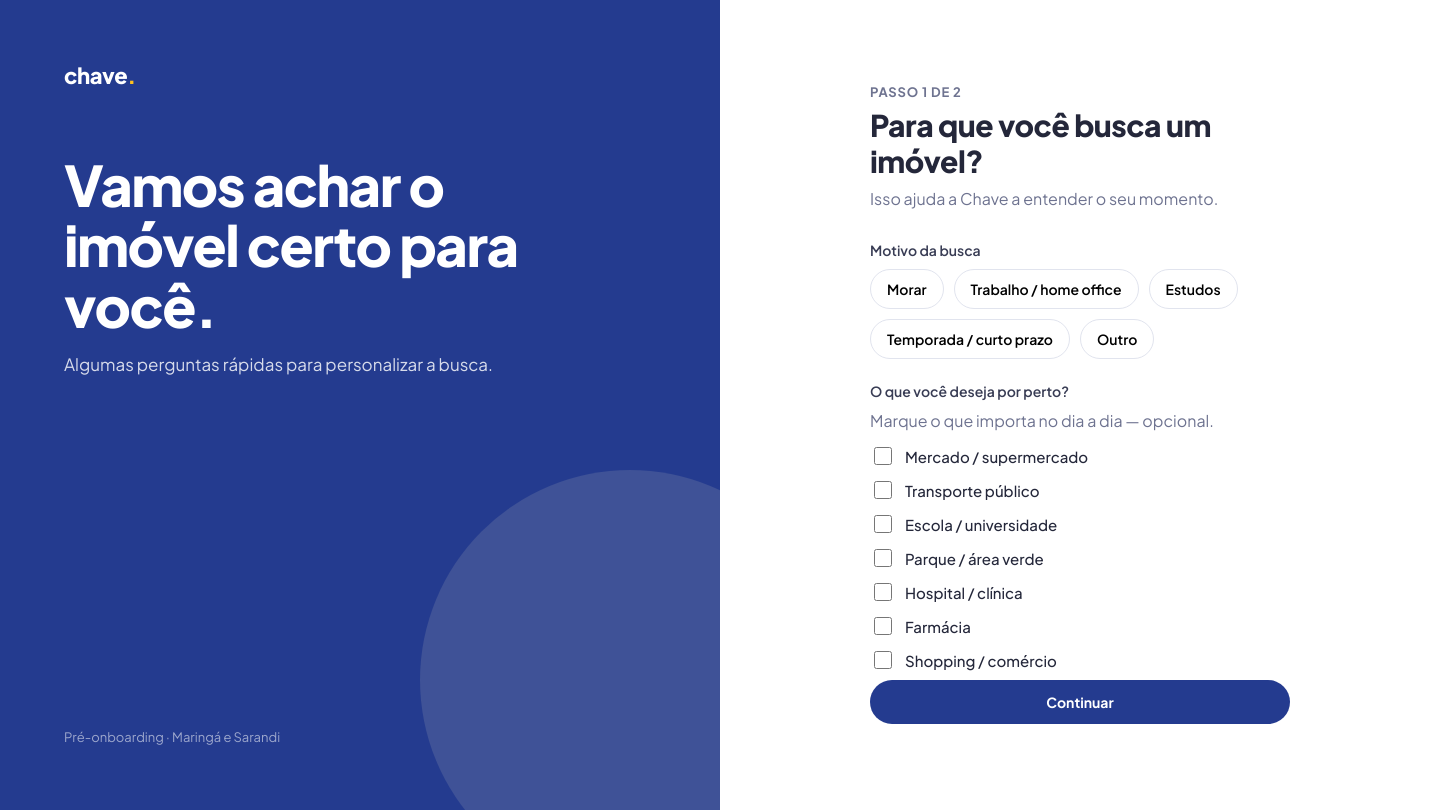
it: OnboardingRentPage › allows going back to step 1
Expected: the heading "Para que você busca um imóvel?" is shown, [870, 106, 1211, 180]
Click the radio button labelled "Morar" at {"x": 907, "y": 288}, box [870, 268, 944, 308]
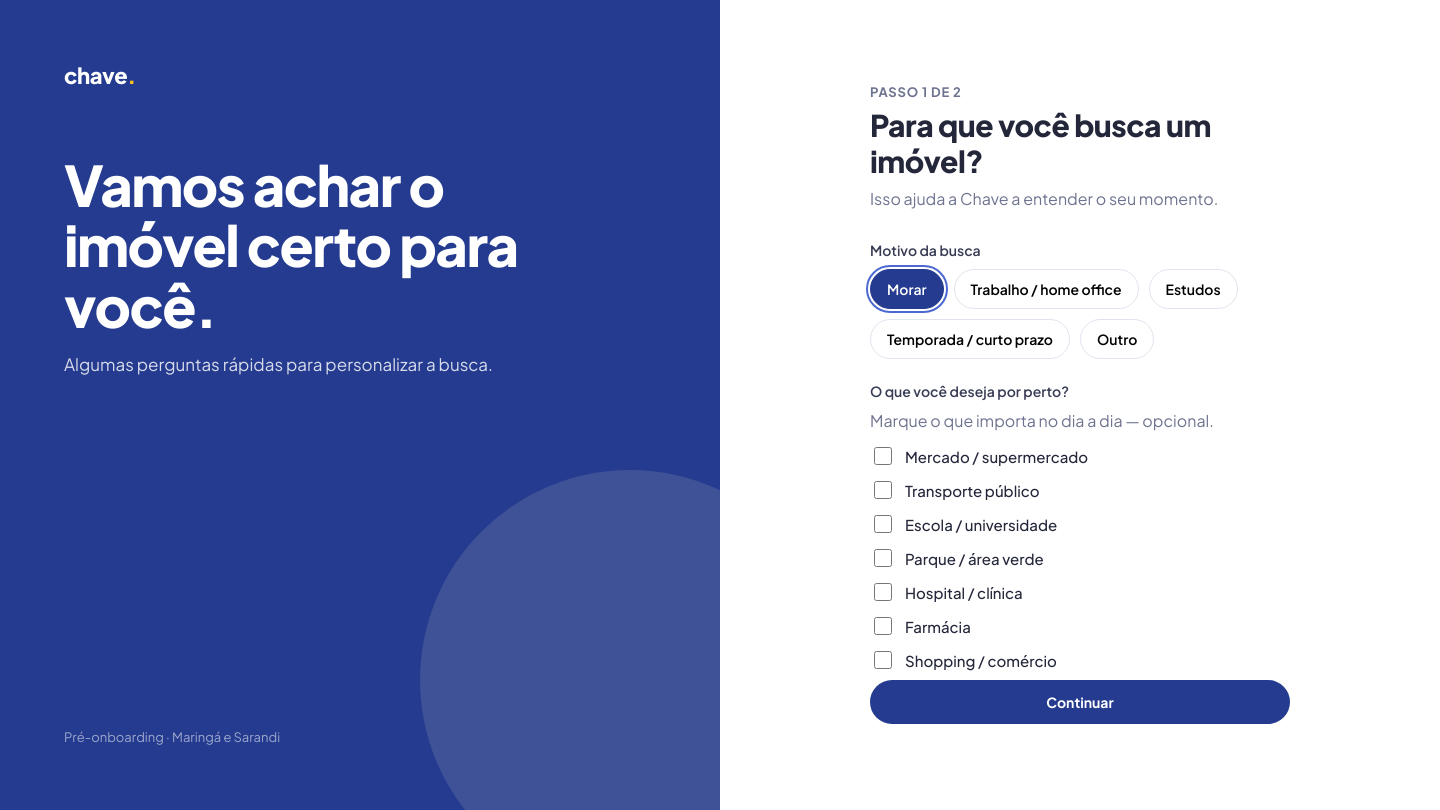
Click the button "Continuar" at {"x": 1080, "y": 702}, box [870, 680, 1290, 724]
(page scrolled)
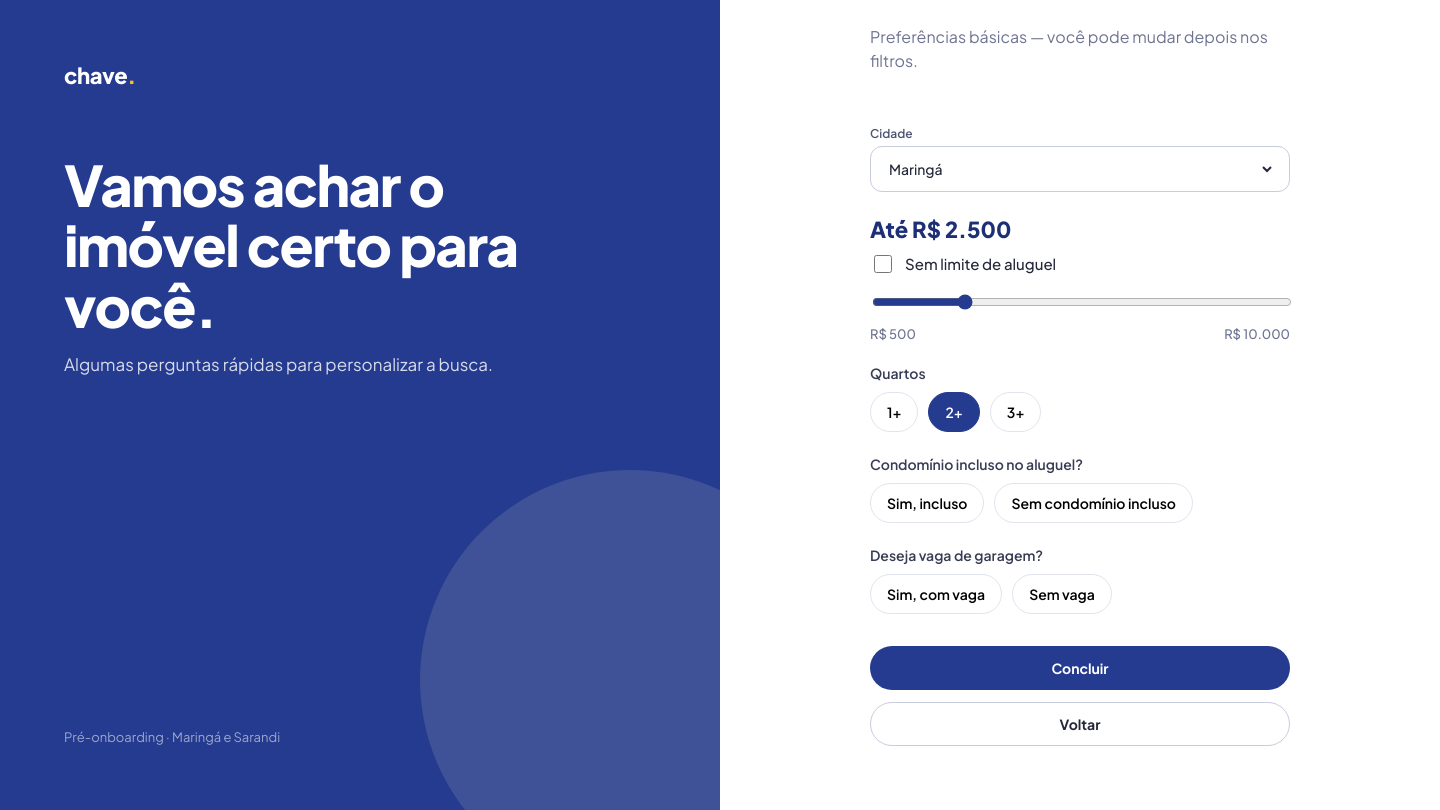
Click the button "Voltar" at {"x": 1080, "y": 724}, box [870, 702, 1290, 746]
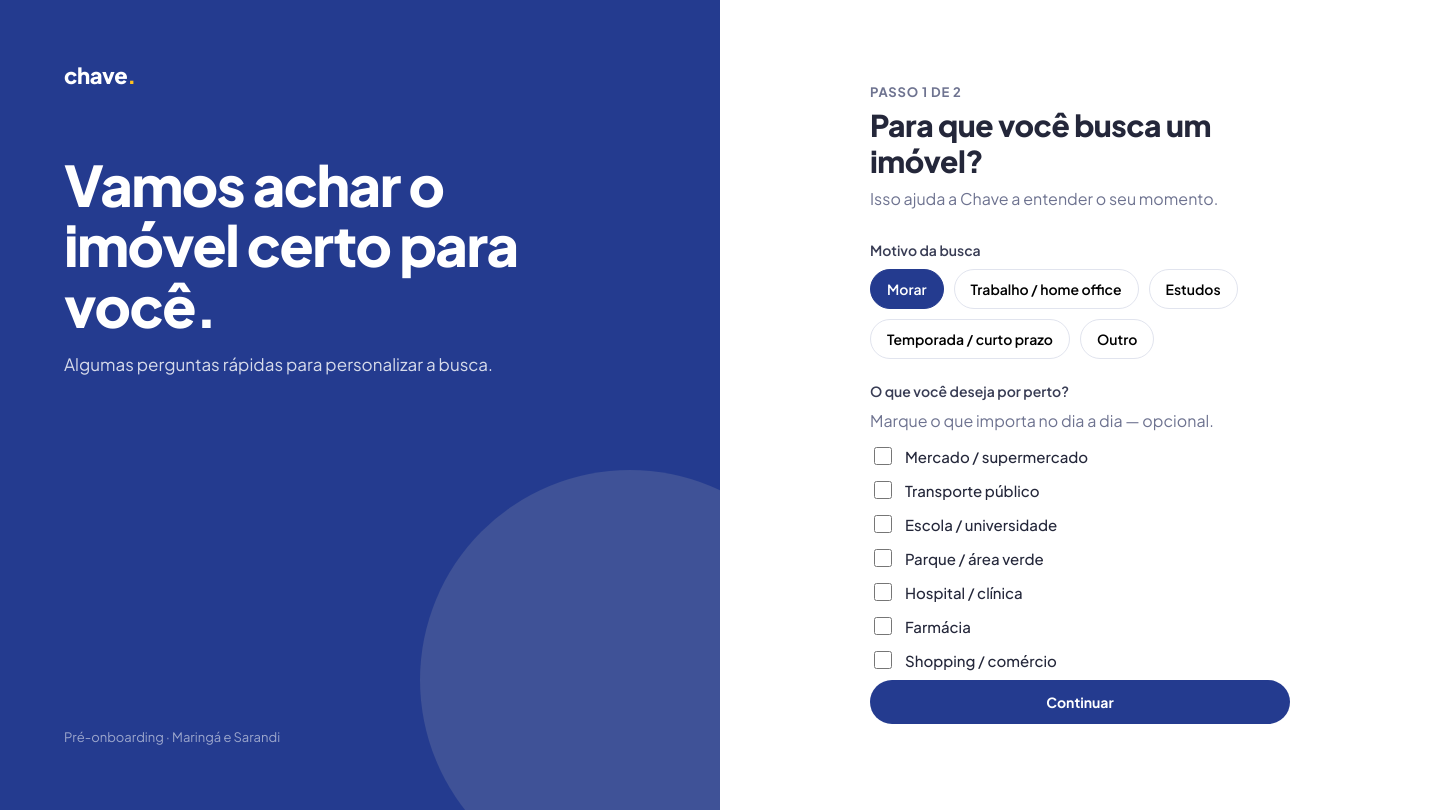
Now the heading "Para que você busca um imóvel?" is shown, box [870, 106, 1211, 180]
